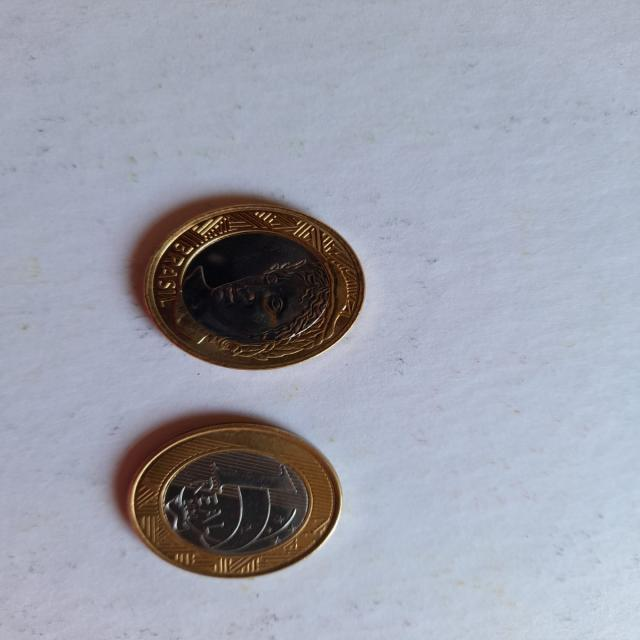1 real: (125, 192, 374, 378), (120, 418, 355, 582)
